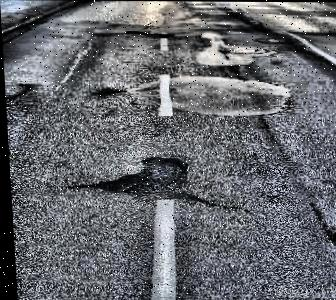pothole: (96, 154, 192, 200), (154, 30, 172, 38), (123, 29, 143, 34)
